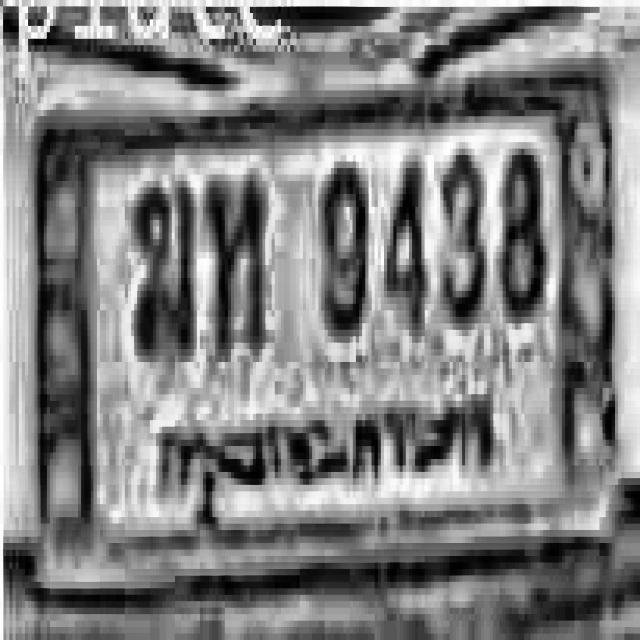license-plate: (33, 68, 620, 568)
